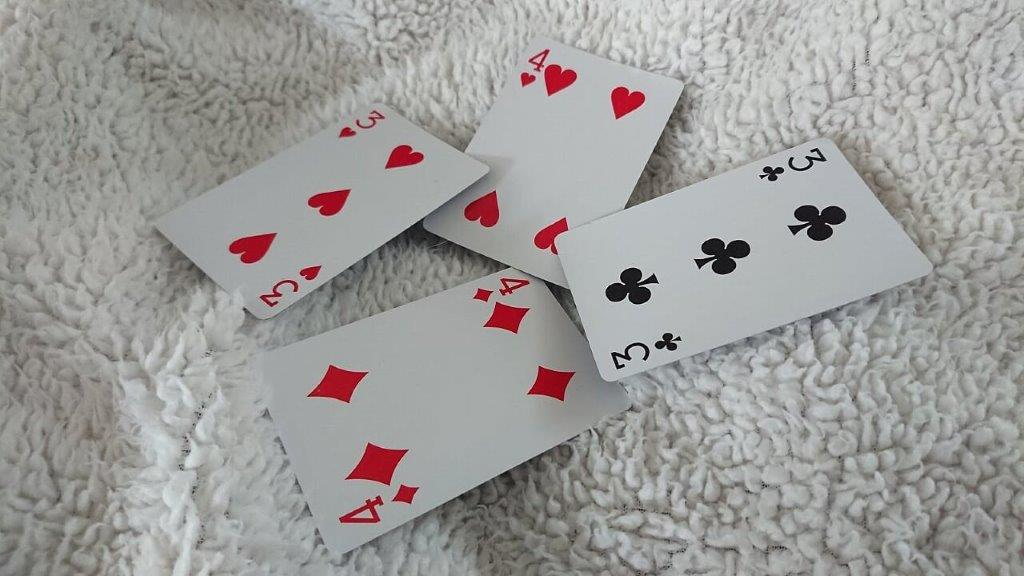3C: (554, 134, 935, 384)
3H: (153, 100, 492, 322)
4D: (252, 290, 570, 557)
4H: (492, 31, 687, 181)
